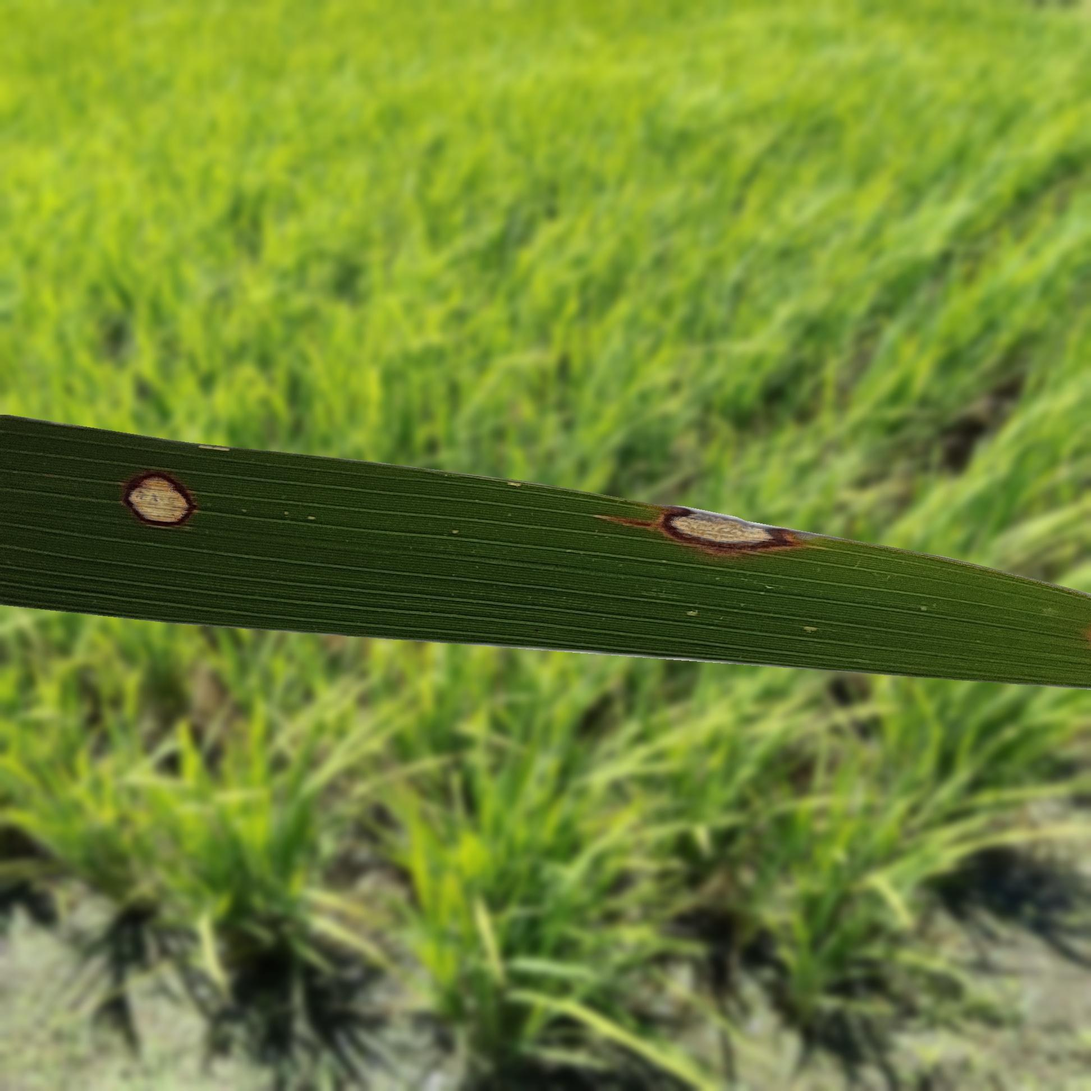LEAF BLAST: (600, 507, 800, 552), (123, 472, 195, 526)
